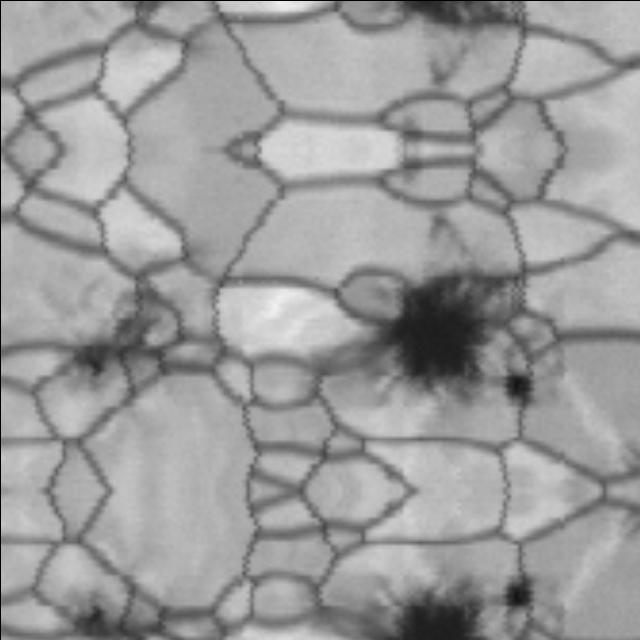good_void: (336, 238, 548, 449), (13, 244, 194, 425), (353, 559, 523, 640), (31, 577, 183, 640), (402, 202, 491, 269), (46, 0, 170, 48), (402, 31, 491, 97), (488, 360, 548, 414), (488, 568, 548, 622)
